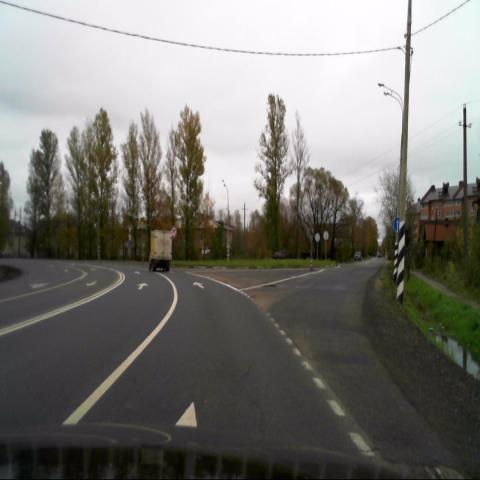4_1_1: (392, 216, 400, 232)
